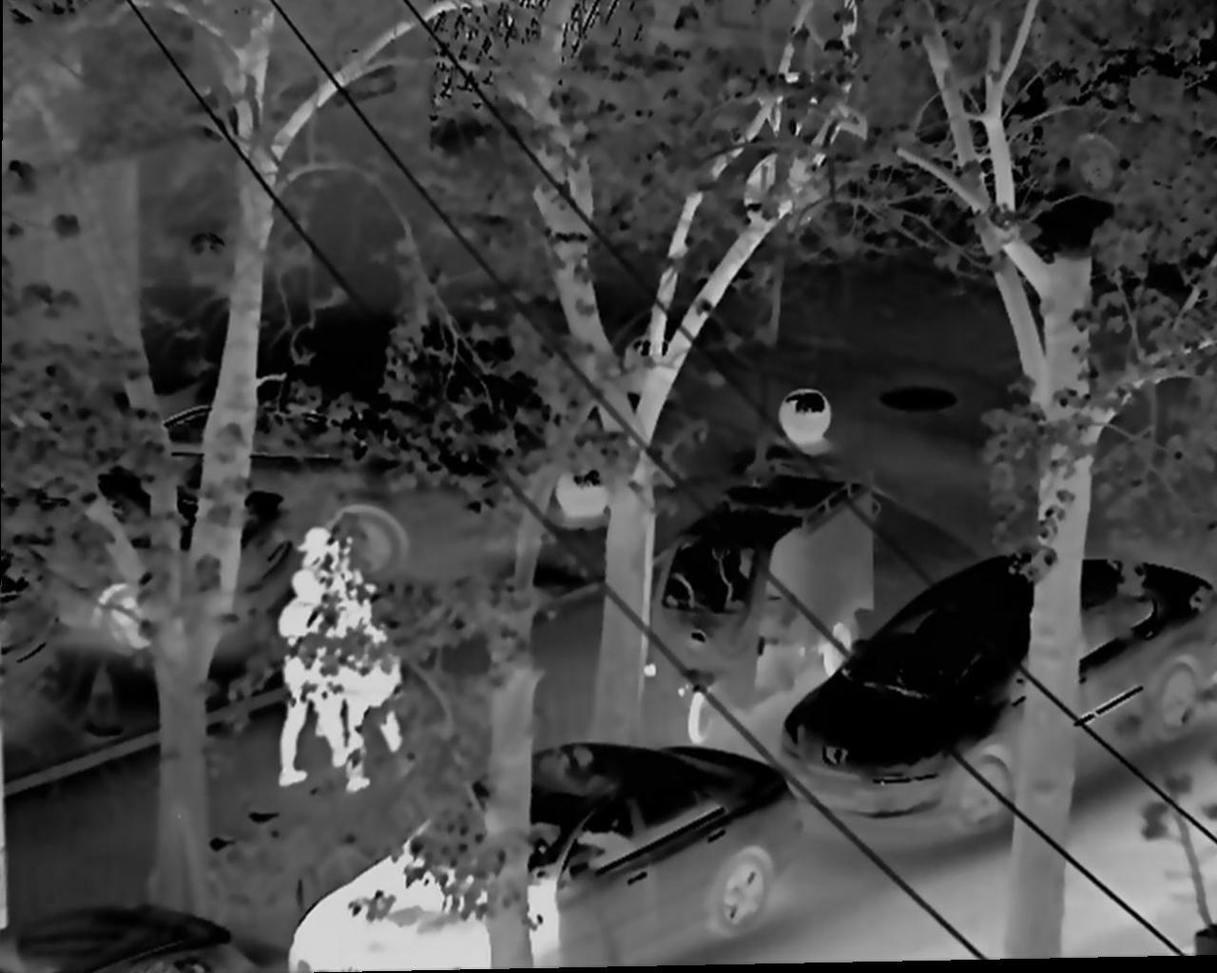person: (328, 553, 403, 799), (281, 557, 348, 784)
